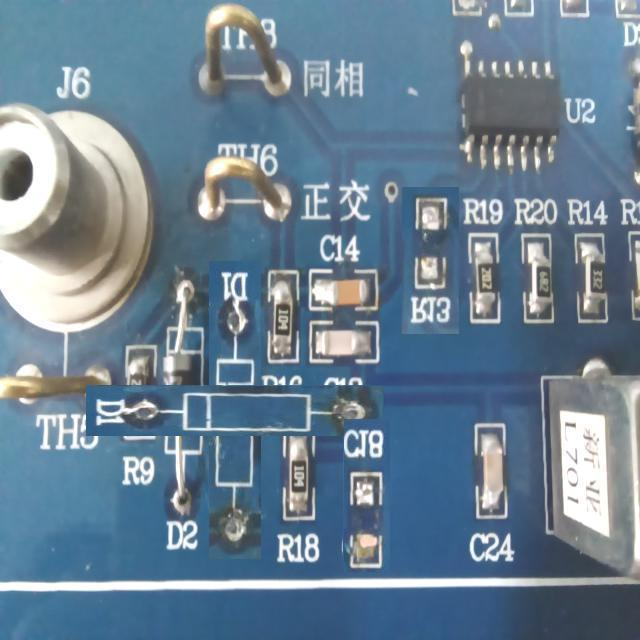miss_welding: (148, 323, 323, 498), (402, 187, 459, 334), (343, 418, 390, 572)
